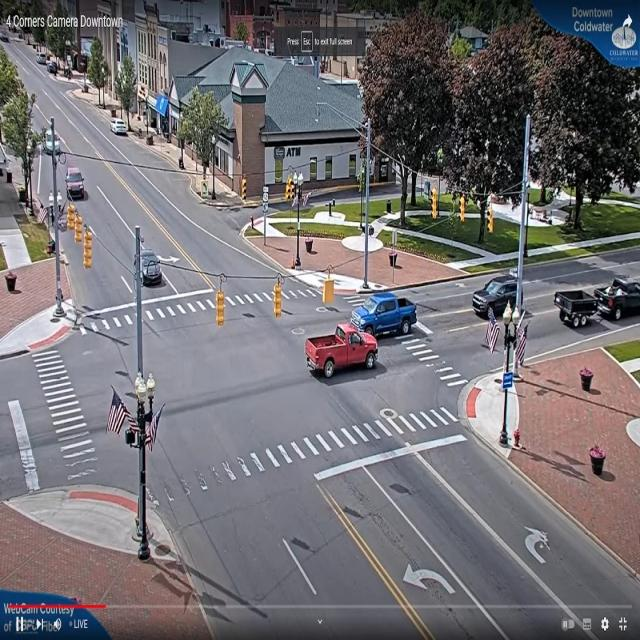car: (305, 322, 379, 382), (356, 293, 418, 340), (138, 250, 164, 286), (66, 170, 86, 202), (112, 120, 129, 136)
